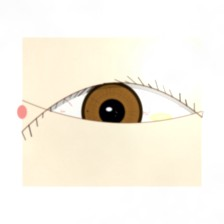pinguecula_lesion: (138, 99, 185, 136)
